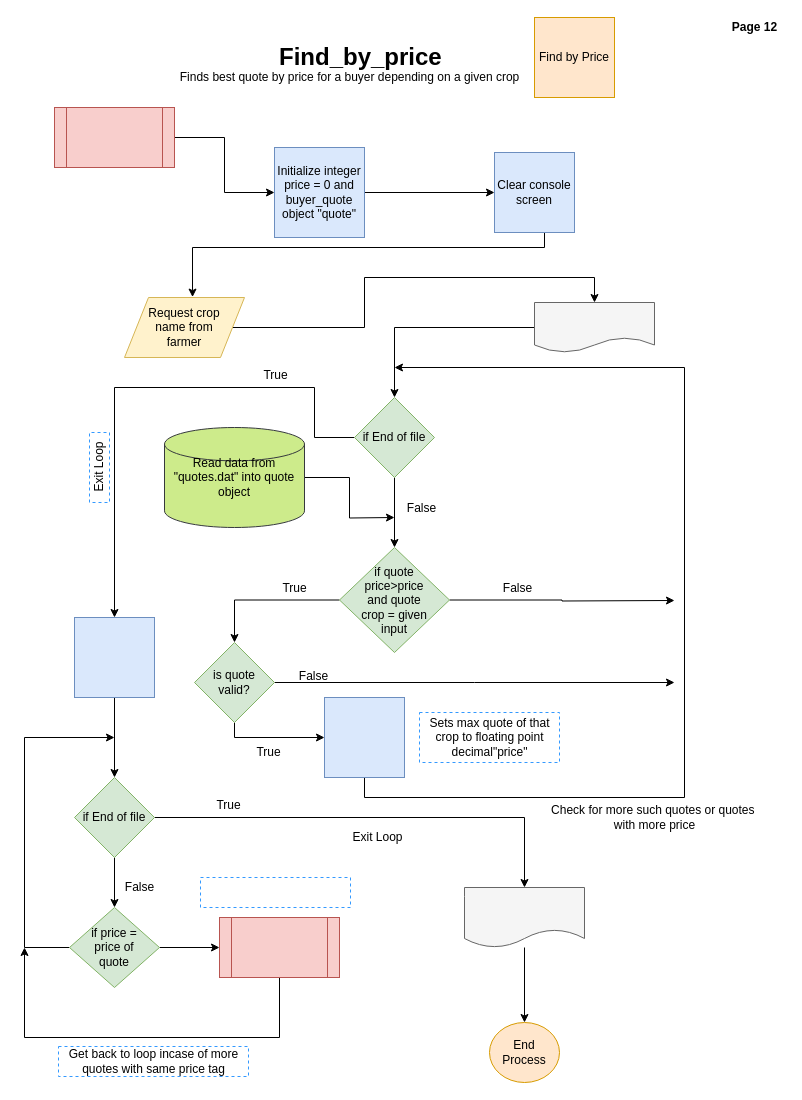
This 802x1100 diagram has some shape labels left out. Here are the shapes that lost their labels. From the top down, the box of each, then its label:
(54, 106, 174, 168): find_by_price()
(534, 302, 654, 352): Open "quote.dat"
(74, 616, 154, 698): Set file pointer to beginning
(324, 696, 404, 778): price = quote of price
(200, 876, 350, 908): Displays the given quote Defined on page 10
(464, 886, 584, 948): Close "quote.dat"
(218, 916, 340, 978): Display Quote
